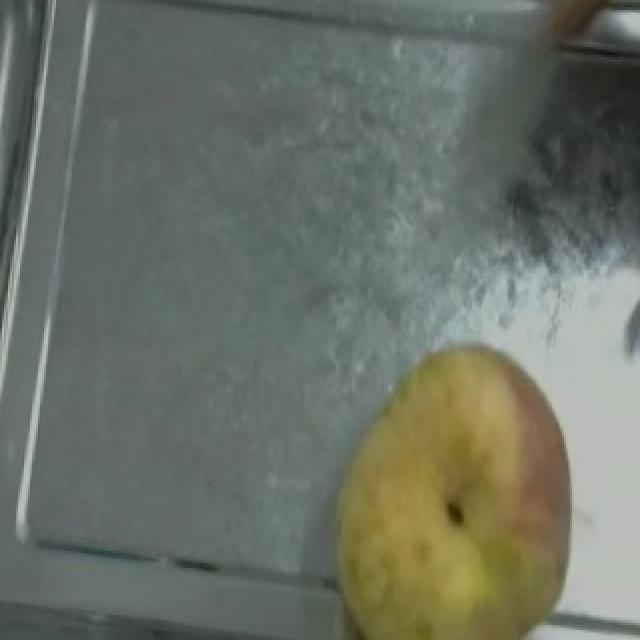Fruit: (298, 327, 602, 640)
